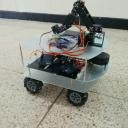cart: (19, 28, 111, 106)
